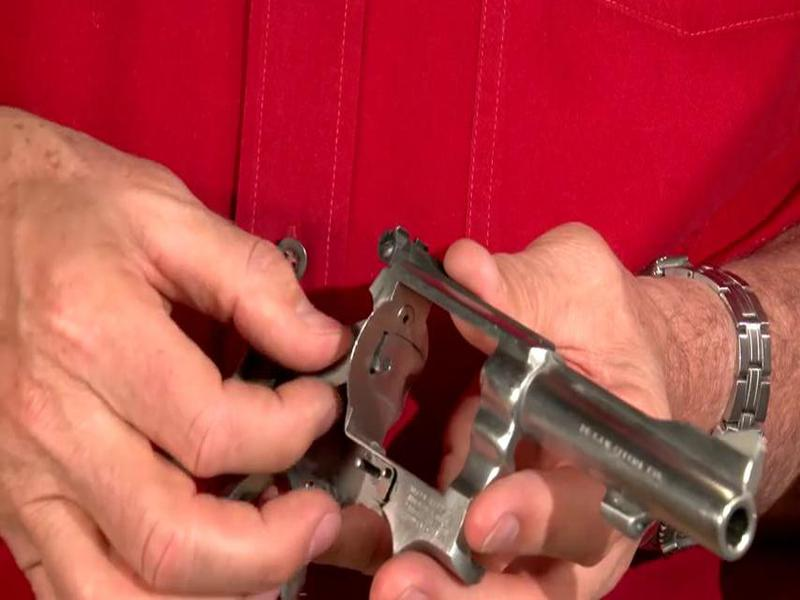Revolver: (218, 216, 800, 597)
